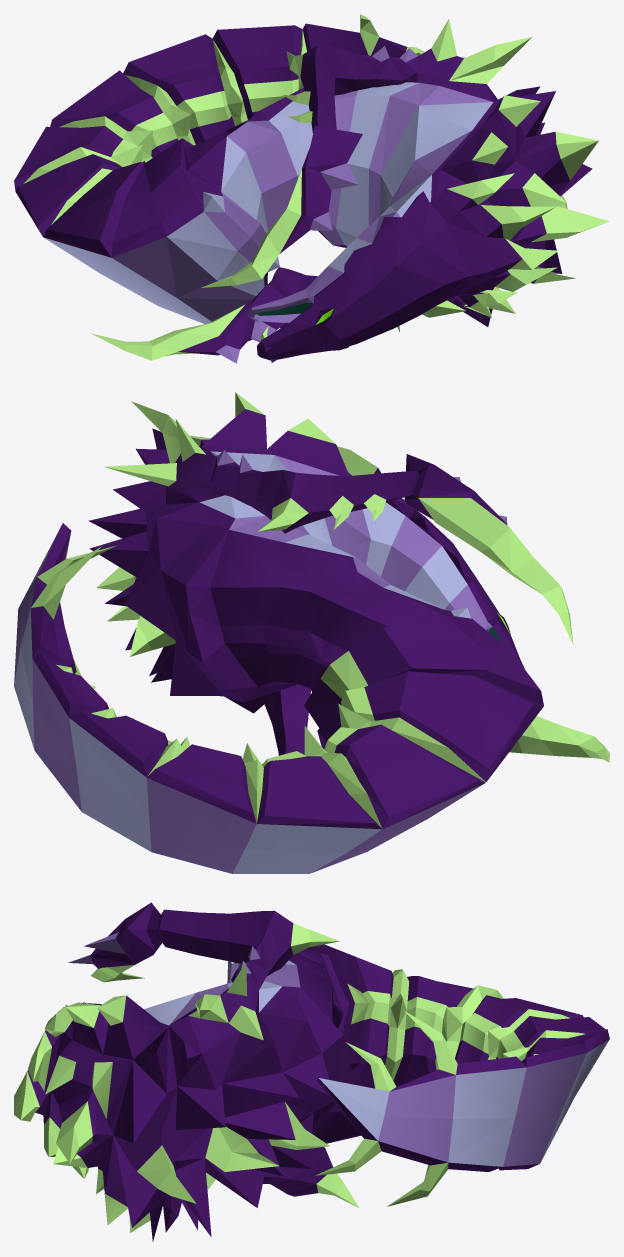
File: Dead (37).obj
3 renders of one model, top to bottom at view 1: azimuth 30°, elevation 25°; view 2: azimuth 150°, elevation 25°; view 3: azimuth 270°, elevation 25°, orthographic. The views are drawn at different scales.
Parts seen in each view (by area): view 1: Alien_Serpent; view 2: Alien_Serpent; view 3: Alien_Serpent.
Part boxes in pixels (x1,y1,x2,y2): Alien_Serpent: (14,14,609,363); Alien_Serpent: (14,392,609,873); Alien_Serpent: (14,902,609,1241).
Bounding box in the file's own units: 228 × 140 × 246.
1 material, 1 textured.
